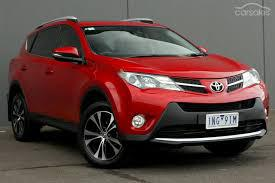car: (9, 17, 267, 168), (9, 17, 263, 168)
